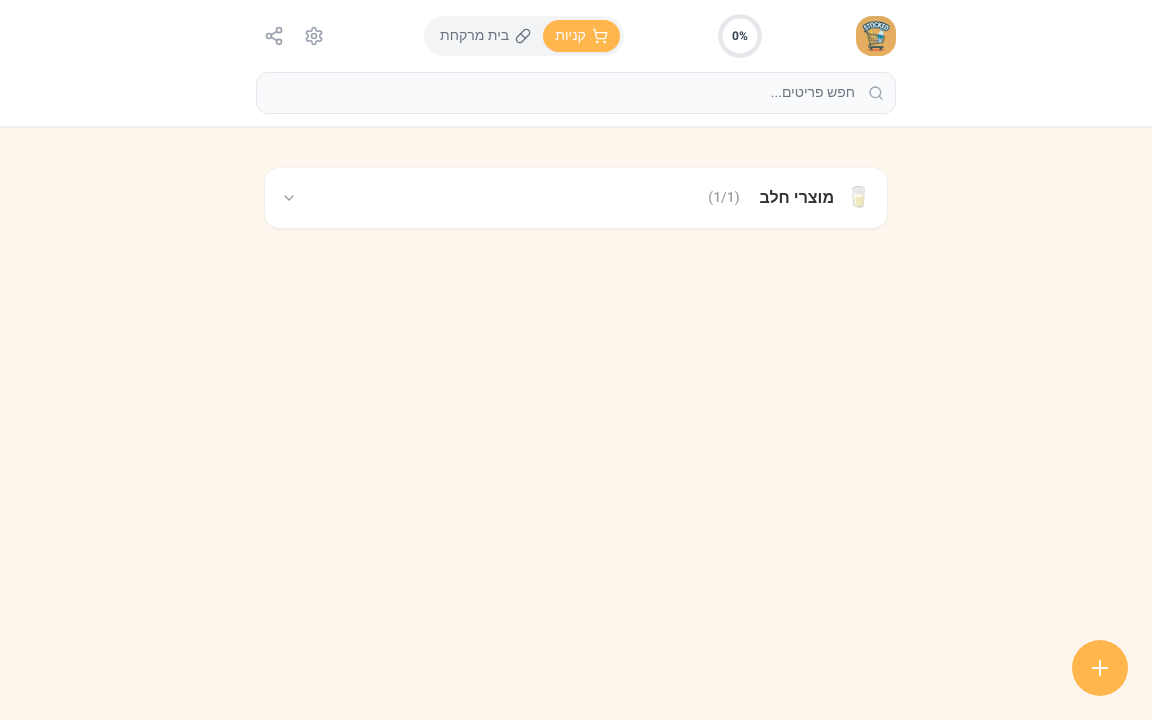
Test case: Add item flow (the most basic, must-work journey) › adds an item to a manually selected category from the add form (no AI call)
The width and height of the screenshot is (1152, 720).
Check: the field with placeholder "חפש פריטים..." is shown, box [256, 72, 896, 114]
Note: Open the add form.
Click the 6th button at (1100, 668), box [1072, 640, 1128, 696]
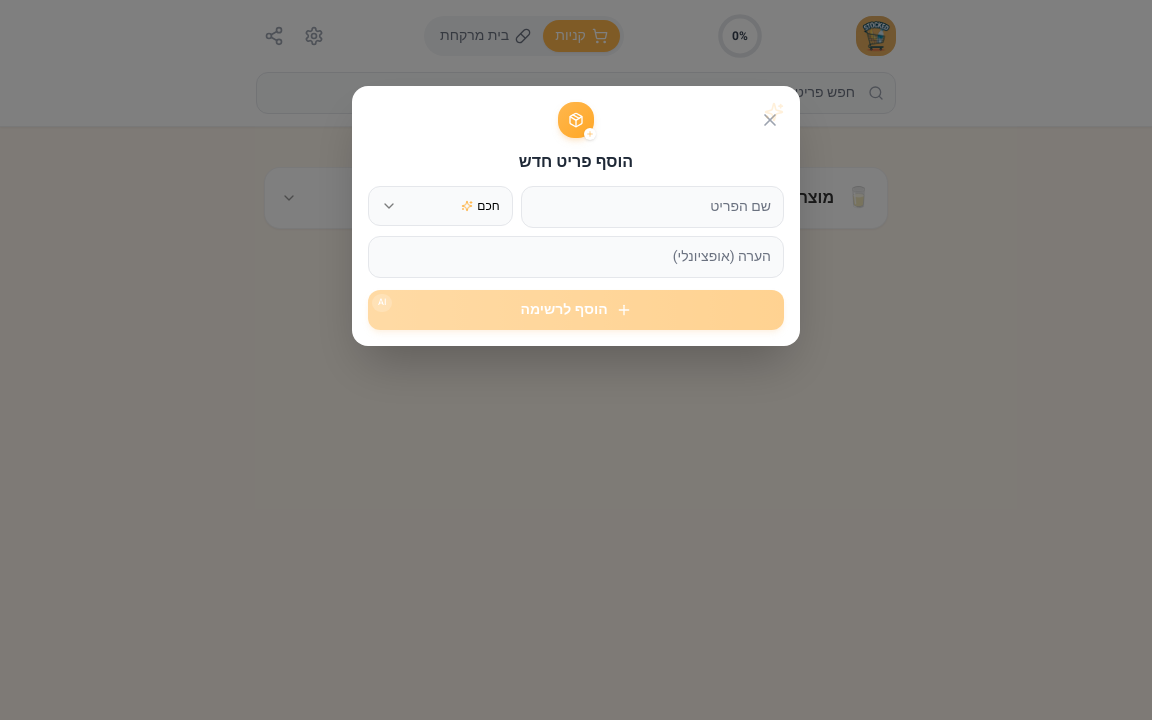
Note: Pick a specific category (defaults to "חכם"/auto) from the Select.
Click the dropdown at (440, 206), box [368, 186, 513, 226]
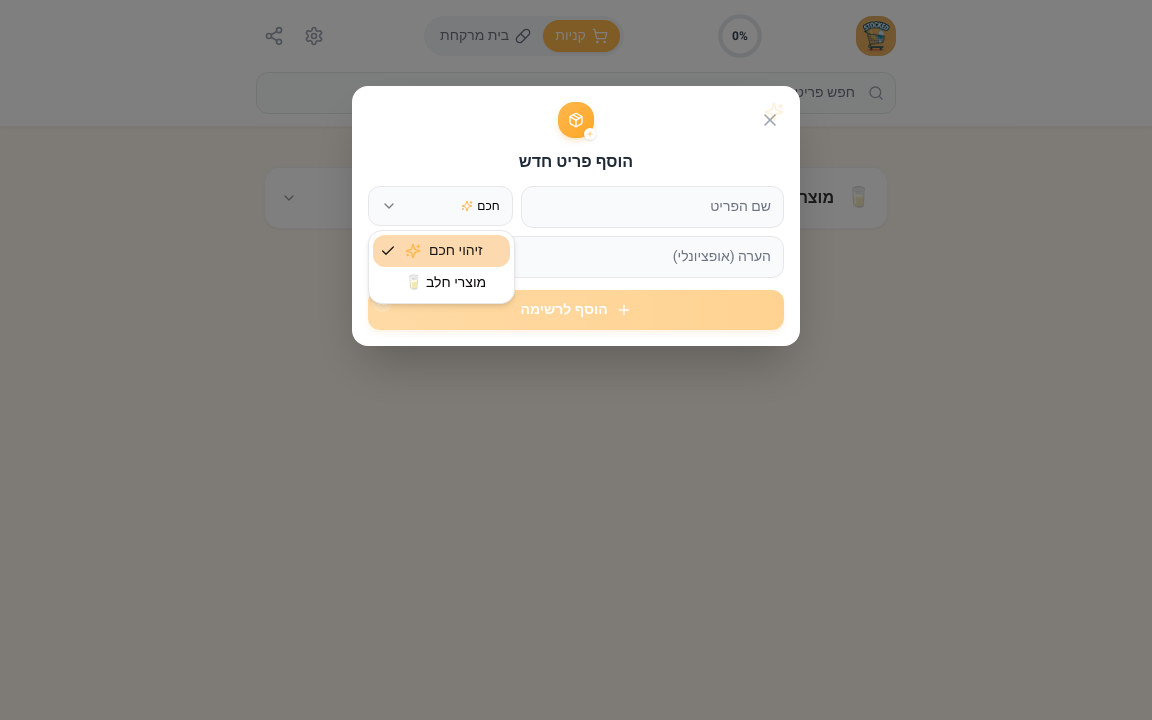
Click the option "🥛 מוצרי חלב" at (446, 282), box [405, 272, 486, 293]
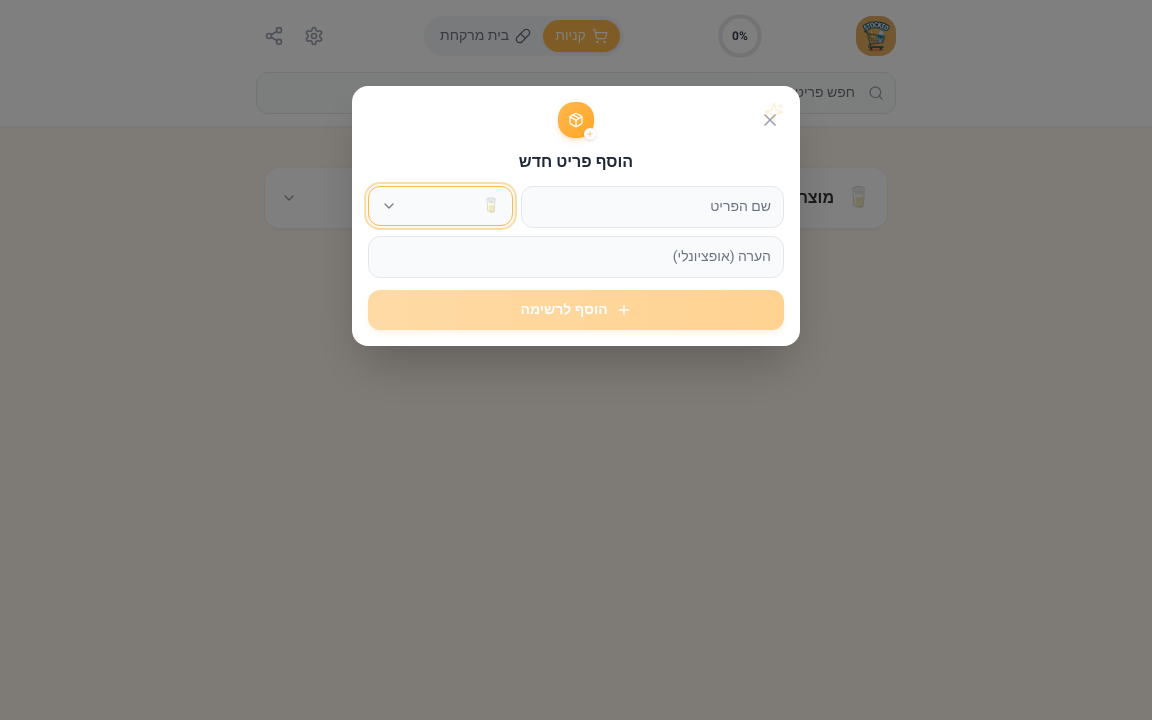
Type "יוגורט" into the field with placeholder "שם הפריט" at (652, 207), box [521, 186, 784, 228]
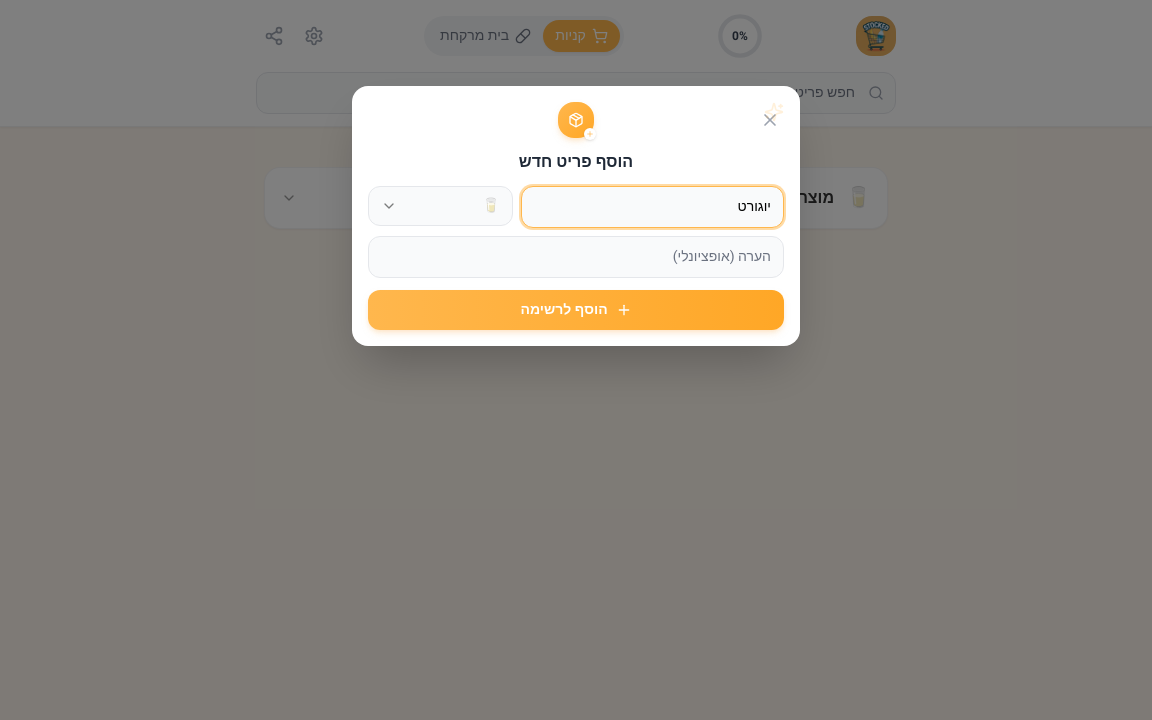
Click the button "הוסף לרשימה" at (576, 310), box [368, 290, 784, 330]
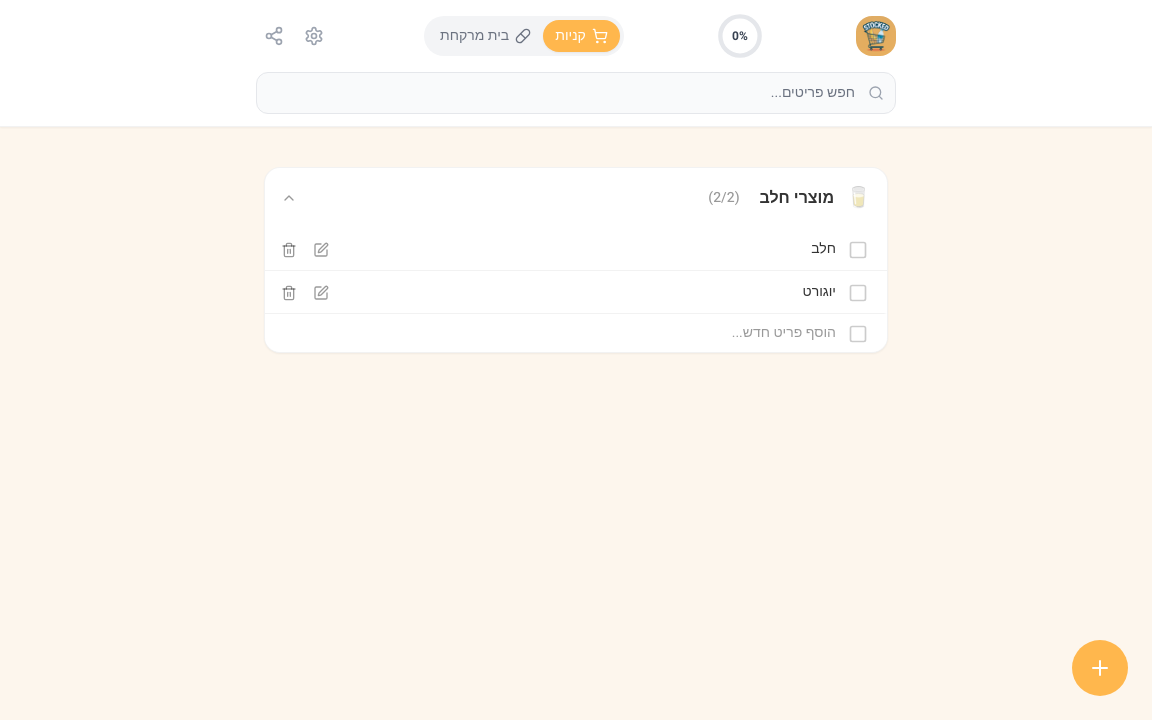
Check: the text "יוגורט" is shown, box [802, 282, 836, 302]
